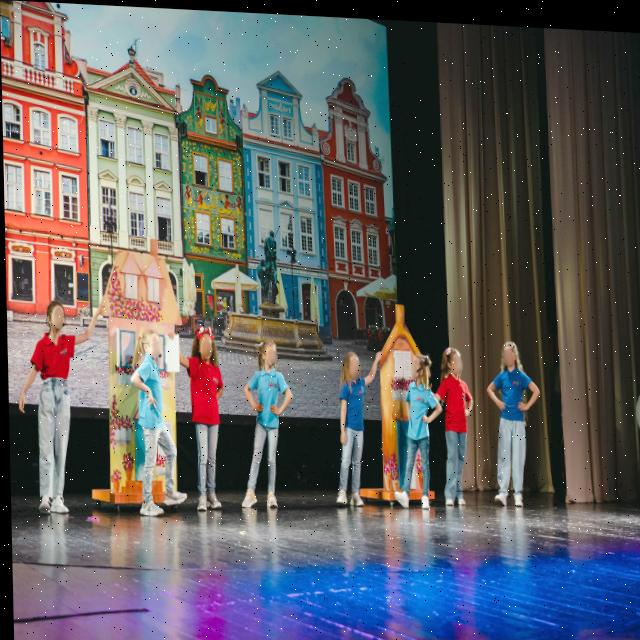Person: (21, 288, 89, 527), (321, 319, 388, 518), (123, 322, 185, 525), (231, 331, 298, 518), (483, 323, 542, 512), (386, 335, 444, 515), (186, 316, 232, 520), (433, 335, 480, 505)
